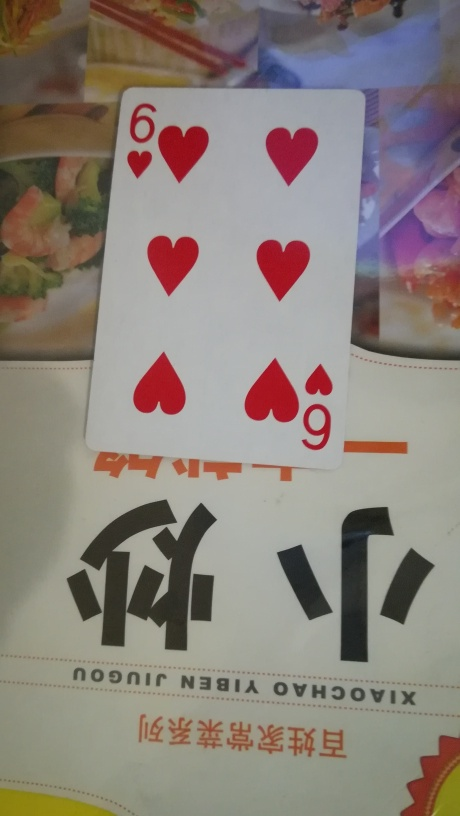hx 6: (82, 81, 366, 480)
